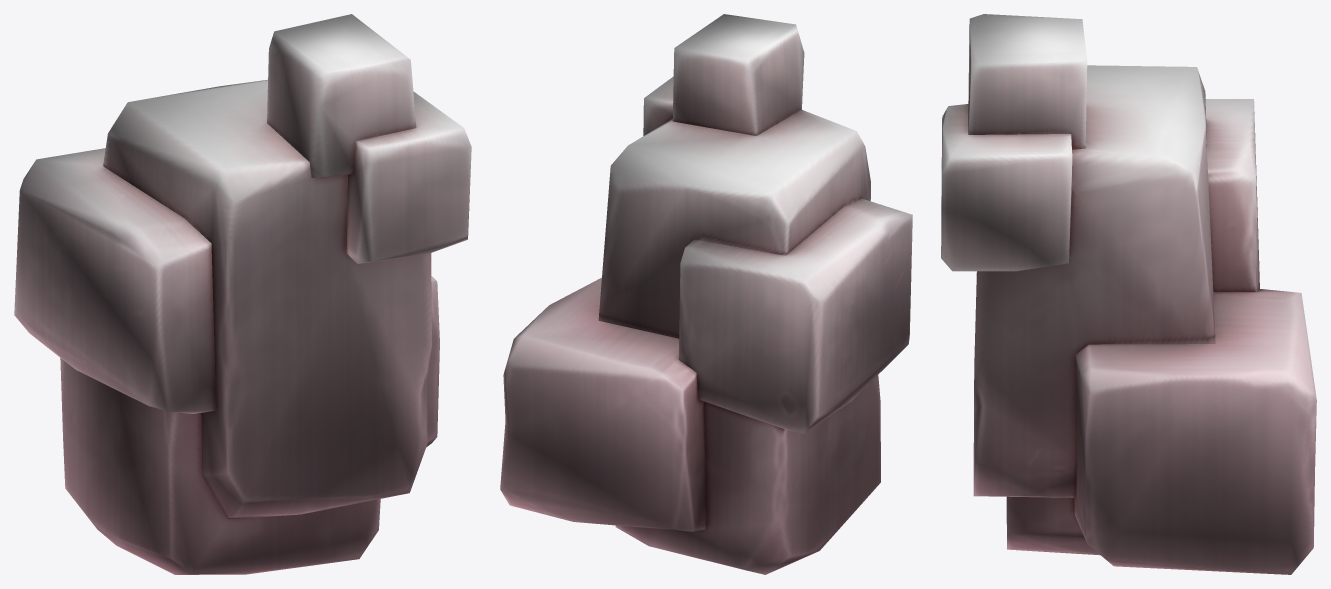
File: SM_Gem_Halite_003.fbx
The picture shows the model from 3 angles, left to right: view 1: azimuth 30°, elevation 25°; view 2: azimuth 150°, elevation 25°; view 3: azimuth 270°, elevation 25°; orthographic projection. The views are drawn at different scales.
Parts seen in each view (by area): view 1: SM_Gem_Halite_003; view 2: SM_Gem_Halite_003; view 3: SM_Gem_Halite_003.
Part boxes in pixels (x1,y1,x2,y2): SM_Gem_Halite_003: (14,14,471,574); SM_Gem_Halite_003: (500,14,912,574); SM_Gem_Halite_003: (941,14,1316,574).
Size of the model in its own units: 46.68 by 67.06 by 44.91.
